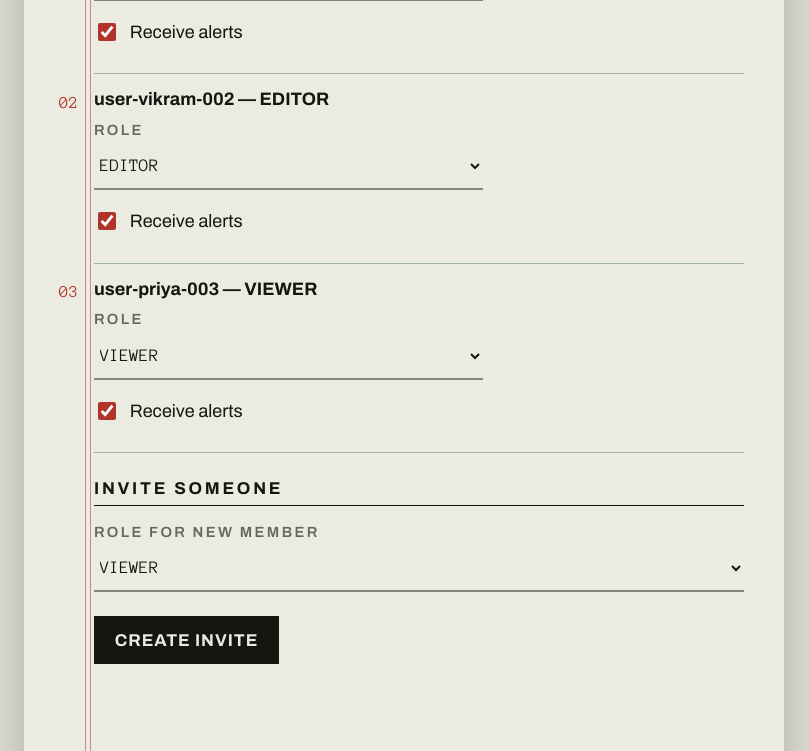
Test: MembersPage › lists members with their roles and can create an invite
This screenshot has width=809, height=751.
(page scrolled)
Expected: the text "user-priya-003 — VIEWER" is shown, [94,279,317,299]
Click the button "Create invite". click: x=187, y=640
box: [94,616,279,664]
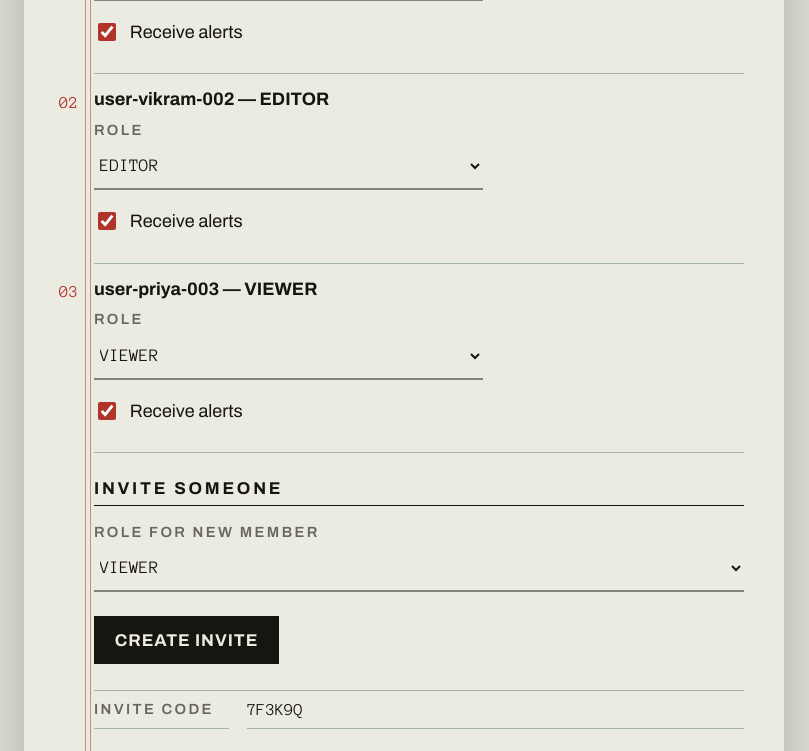
Now the text "7F3K9Q" is shown, box [247,691,744,729]
